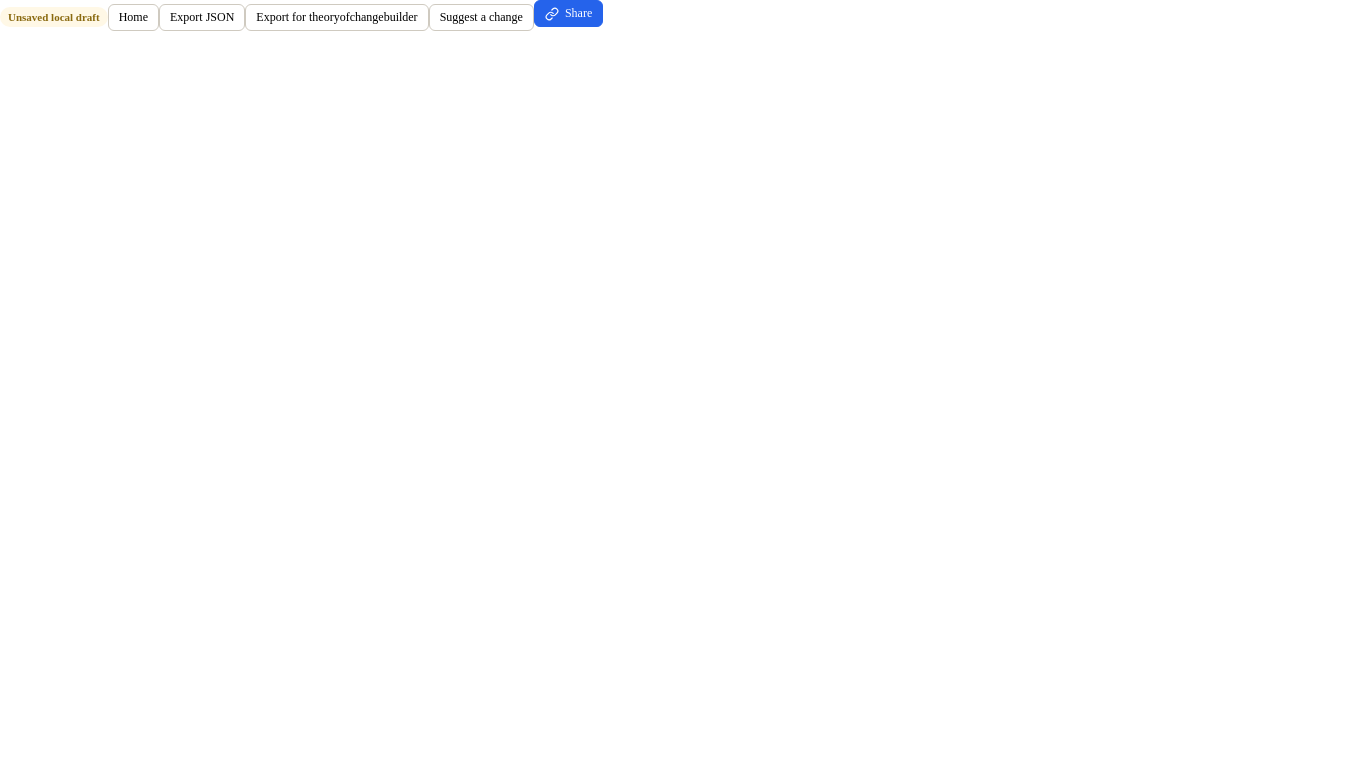
Test case: the Suggest a change dialog › posts the split map, baseSha and an empty honeypot, then shows the link
Click the button "Suggest a change".
click(481, 17)  # box [429,4,534,30]
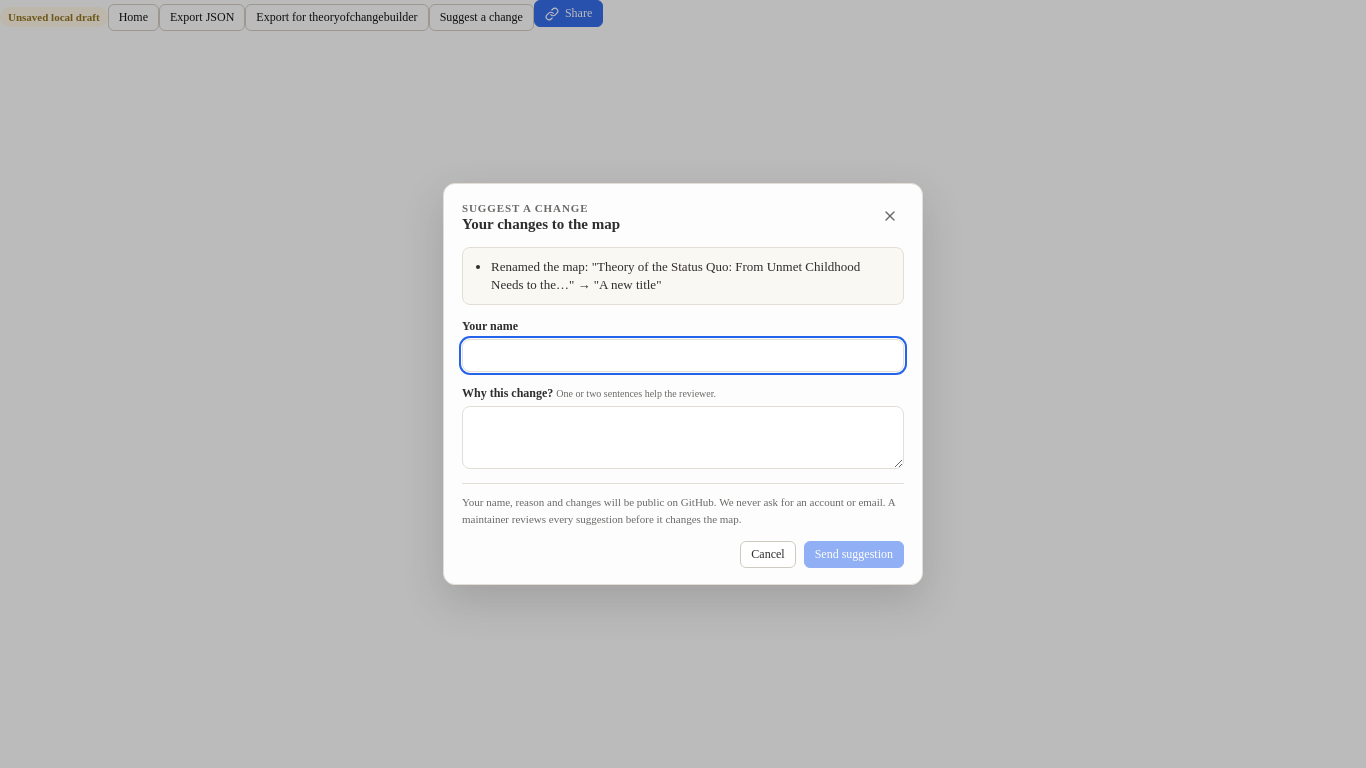
Type " Dana " into the field labelled "Your name".
click(683, 356); type(" Dana ")  # box [462,339,904,372]
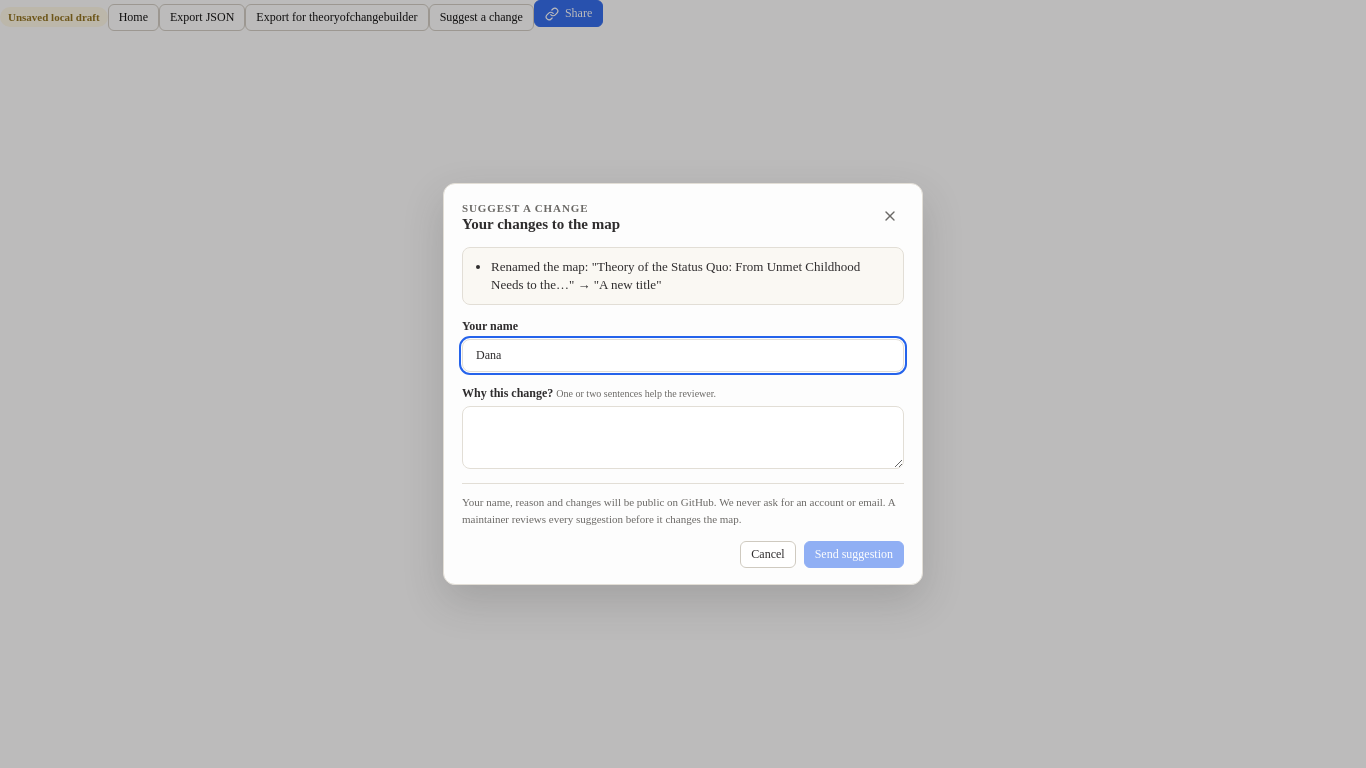
Type "Because" into the text box labelled "Why this change? One or two sentences help the reviewer.".
click(683, 438); type("Because")  # box [462,406,904,469]
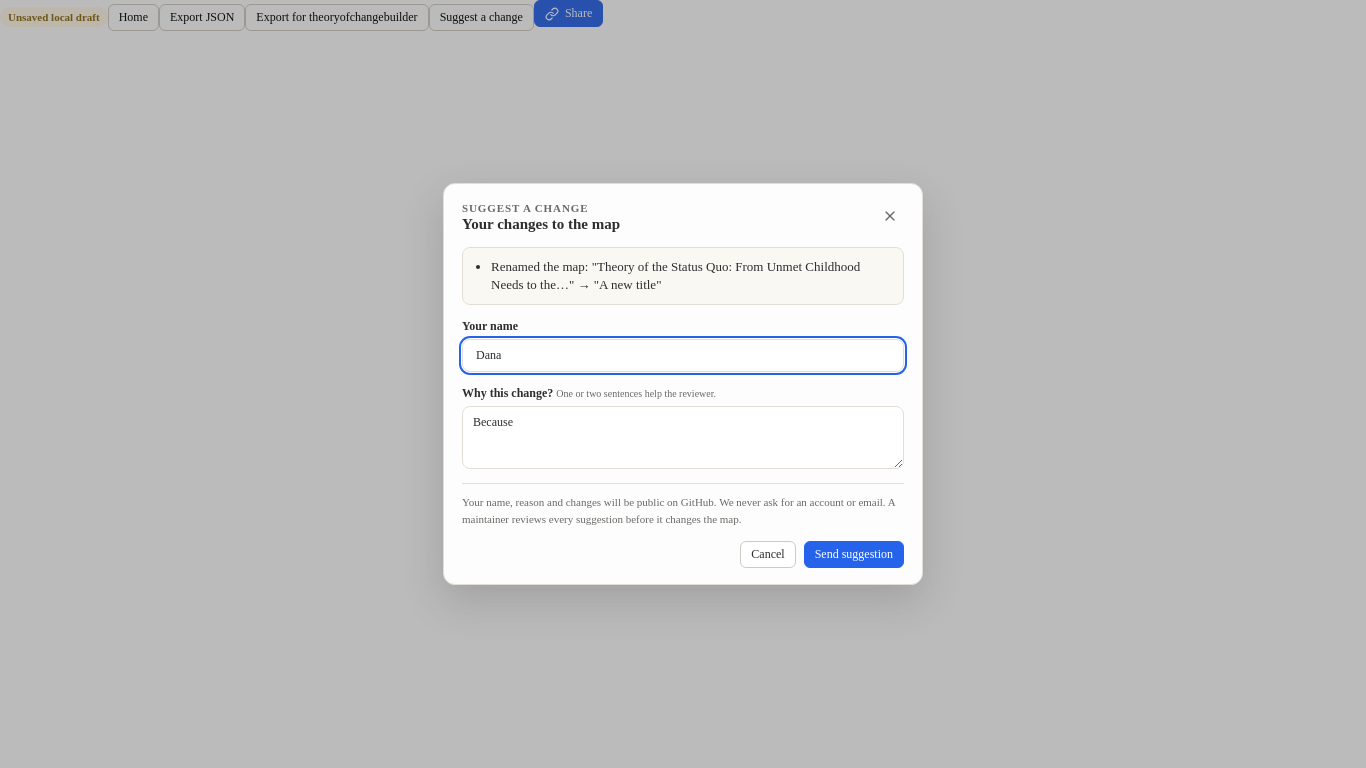
Click the button "Send suggestion".
click(854, 555)  # box [804,541,904,568]
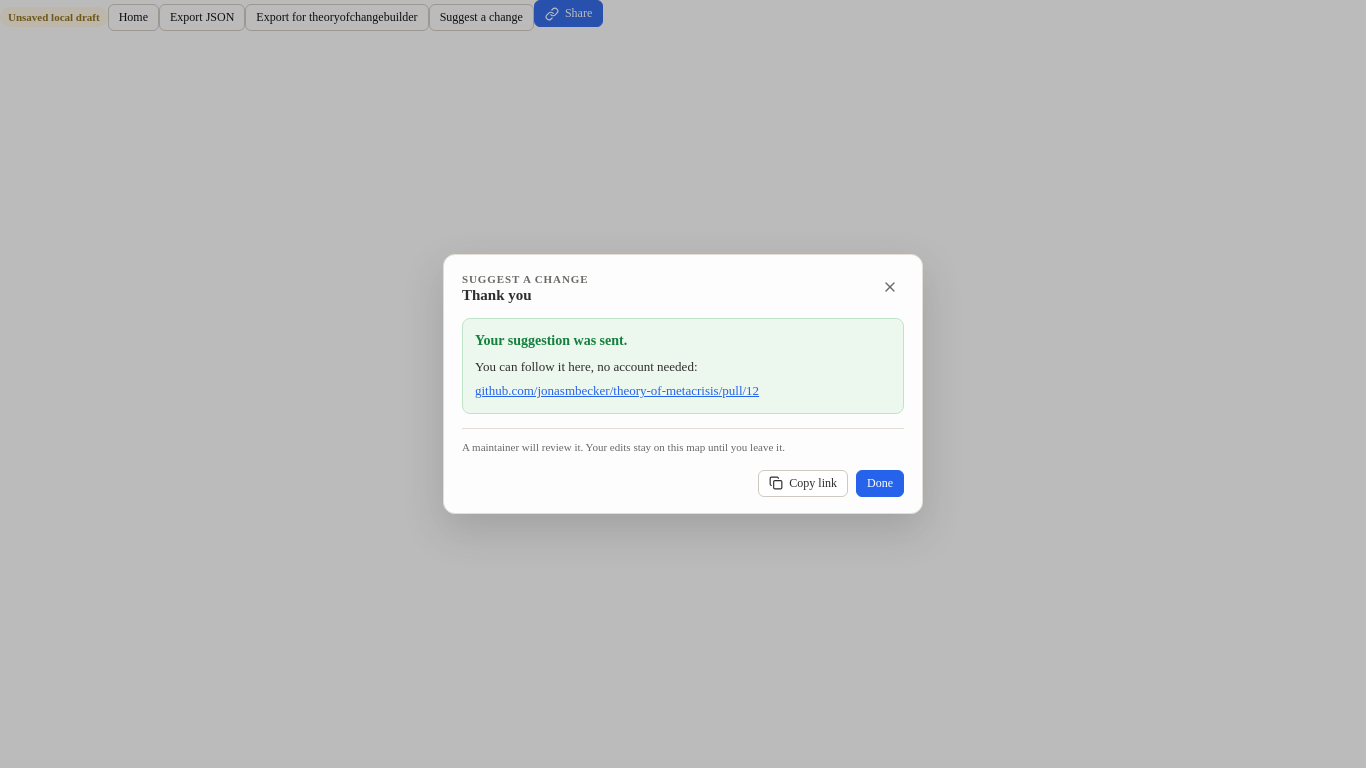
Result: the text "Your suggestion was sent." is shown at [475,333,627,348]
